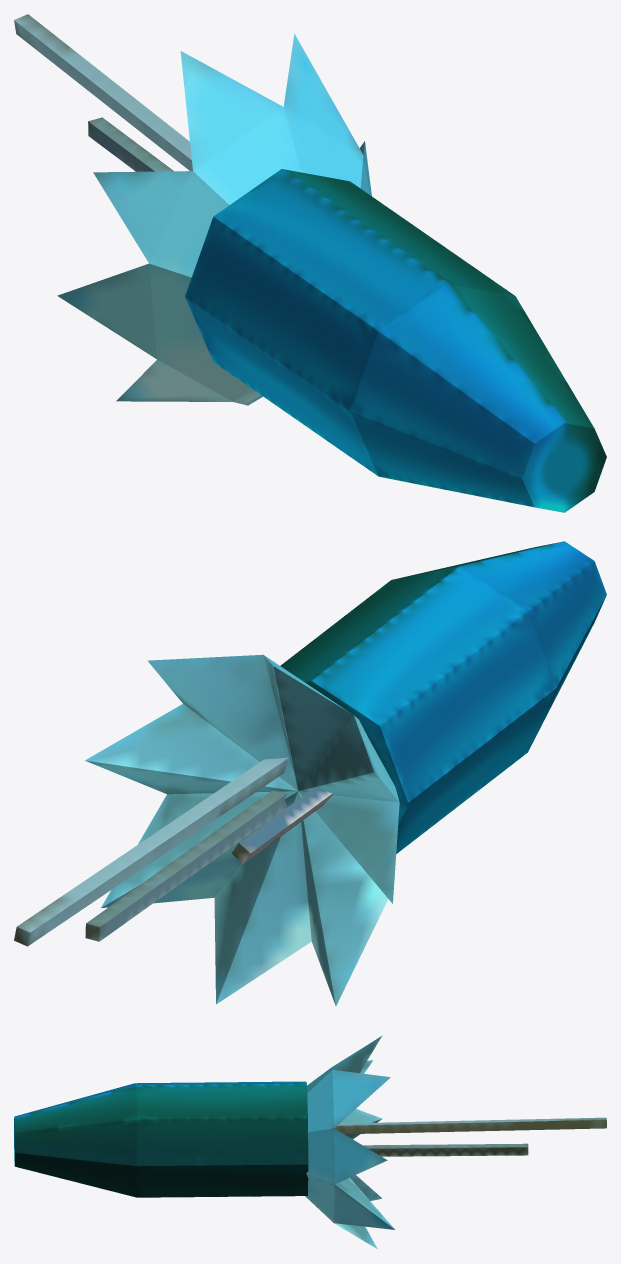
3 renders of one model, top to bottom at view 1: azimuth 30°, elevation 25°; view 2: azimuth 150°, elevation 25°; view 3: azimuth 270°, elevation 25°, orthographic. The views are drawn at different scales.
Visible parts, largest first — view 1: Bala_Cylinder.003, Fogonazo_Cylinder.004, Estela_1_Cube.006, Estela_3_Cube.008; view 2: Fogonazo_Cylinder.004, Bala_Cylinder.003, Estela_1_Cube.006, Estela_3_Cube.008, Estela_2_Cube.007; view 3: Bala_Cylinder.003, Fogonazo_Cylinder.004, Estela_1_Cube.006, Estela_3_Cube.008.
Part boxes in pixels (x1,y1,x2,y2): Bala_Cylinder.003: (185, 169, 606, 512); Fogonazo_Cylinder.004: (57, 34, 371, 405); Estela_1_Cube.006: (14, 14, 192, 170); Estela_3_Cube.008: (88, 117, 173, 171); Fogonazo_Cylinder.004: (85, 654, 399, 1005); Bala_Cylinder.003: (280, 541, 606, 853); Estela_1_Cube.006: (14, 757, 288, 946); Estela_3_Cube.008: (85, 791, 286, 941); Estela_2_Cube.007: (231, 787, 332, 863); Bala_Cylinder.003: (14, 1081, 308, 1197); Fogonazo_Cylinder.004: (305, 1035, 394, 1248); Estela_1_Cube.006: (334, 1117, 606, 1134); Estela_3_Cube.008: (363, 1143, 528, 1156).
Size of the model in its own units: 0.4468 by 0.5015 by 1.36.
